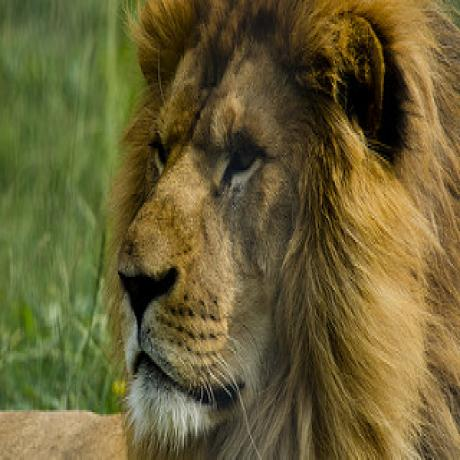Lion: (99, 0, 460, 460)
